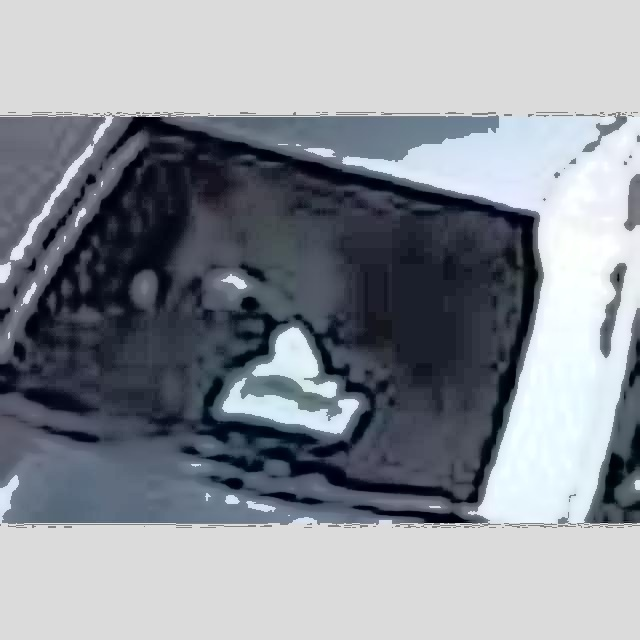tidak-pakai: (148, 166, 351, 363)
